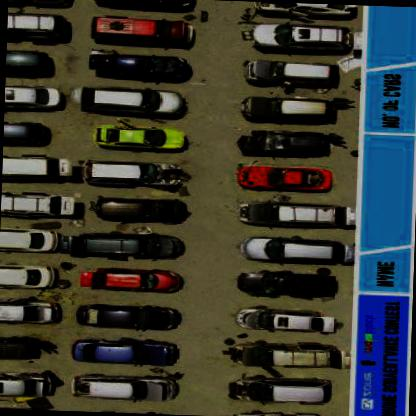car: (0, 226, 181, 259), (238, 236, 353, 266), (72, 336, 178, 368), (77, 89, 187, 118), (226, 377, 331, 406), (236, 199, 343, 227), (72, 374, 179, 402), (237, 270, 336, 300), (248, 21, 354, 49), (80, 160, 186, 188), (232, 304, 334, 333), (90, 16, 192, 45), (76, 303, 178, 332), (87, 51, 188, 79), (235, 164, 336, 191), (92, 125, 185, 152), (244, 58, 340, 84), (251, 1, 355, 19), (4, 85, 63, 114), (0, 299, 61, 325), (0, 333, 59, 359), (3, 120, 51, 148)
